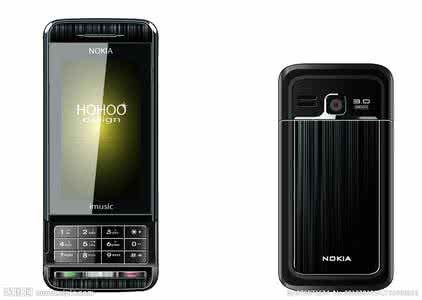phone: (43, 17, 157, 290), (281, 63, 393, 288)
